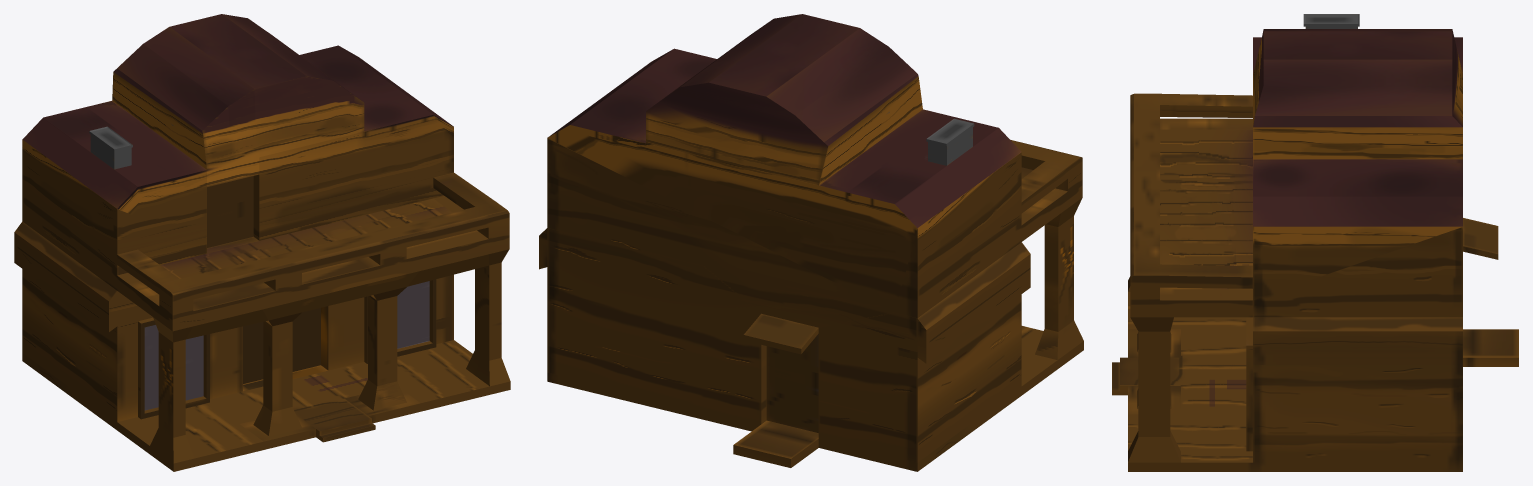
The model's file is random building.obj.
3 views of the same model, side by side, from view 1: azimuth 30°, elevation 25°; view 2: azimuth 150°, elevation 25°; view 3: azimuth 270°, elevation 25° (orthographic). The views are drawn at different scales.
Parts seen in each view (by area): view 1: Cube.001; view 2: Cube.001; view 3: Cube.001.
Boxes of the visible parts, bbox=[...] form: Cube.001: bbox=[14, 14, 510, 471]; Cube.001: bbox=[539, 14, 1083, 471]; Cube.001: bbox=[1112, 14, 1518, 471].
Size of the model in its own units: 7.7 by 6.34 by 6.96.
Materials: 1 (1 with a texture image).
